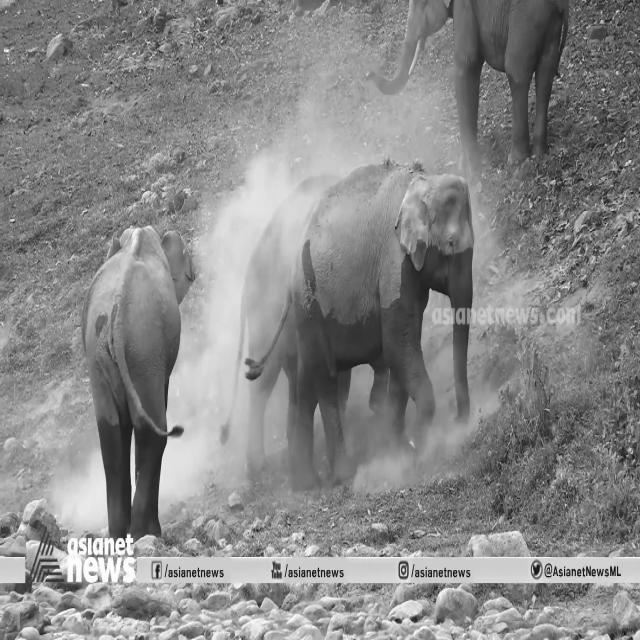ELEPHANT: (282, 148, 478, 456), (82, 224, 196, 539)
